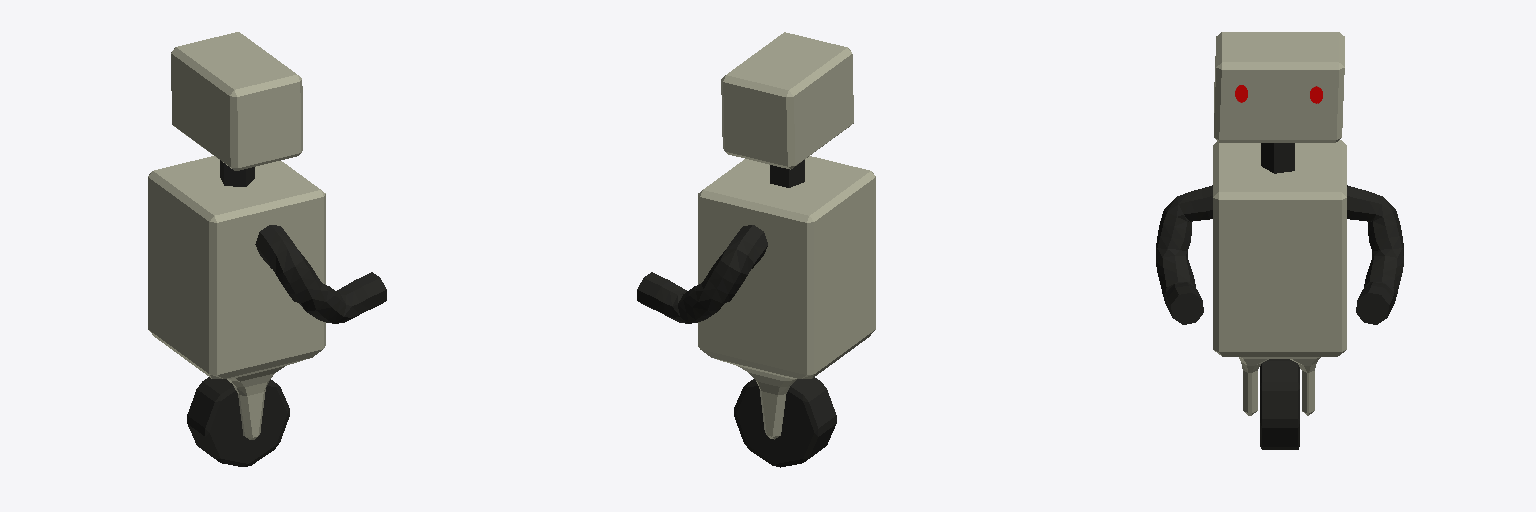
3 views of the same model, side by side, from view 1: azimuth 30°, elevation 25°; view 2: azimuth 150°, elevation 25°; view 3: azimuth 270°, elevation 25° (orthographic).
Visible parts, largest first — view 1: Cylinder.002_Cylinder.003, Cylinder_Cylinder.002; view 2: Cylinder.002_Cylinder.003, Cylinder.001_Cylinder.005; view 3: Cylinder.002_Cylinder.003, Cylinder.001_Cylinder.005, Cylinder_Cylinder.002.
Boxes of the visible parts, x1=… form: Cylinder.002_Cylinder.003: x1=148, y1=32, x2=325, y2=466; Cylinder_Cylinder.002: x1=255, y1=225, x2=386, y2=323; Cylinder.002_Cylinder.003: x1=698, y1=32, x2=875, y2=467; Cylinder.001_Cylinder.005: x1=637, y1=225, x2=767, y2=323; Cylinder.002_Cylinder.003: x1=1213, y1=32, x2=1346, y2=449; Cylinder.001_Cylinder.005: x1=1347, y1=185, x2=1403, y2=324; Cylinder_Cylinder.002: x1=1156, y1=185, x2=1212, y2=324.
Bounding box in the file's own units: 0.3185 × 0.7869 × 0.4444.
Materials: 2 (1 with a texture image).